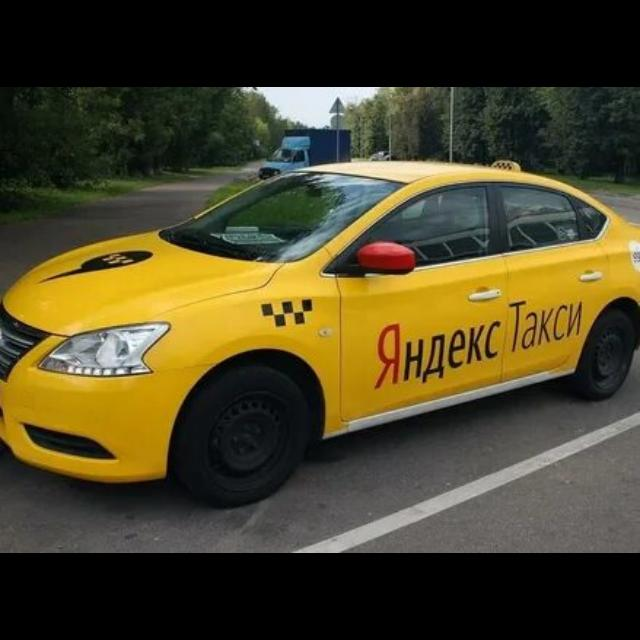taxi: (1, 159, 639, 510)
